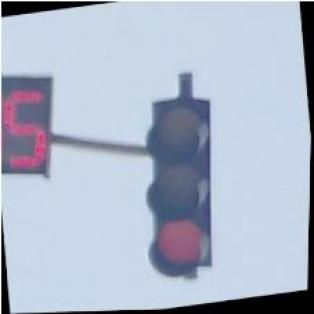Semaforo Rojo: (130, 97, 231, 282)
